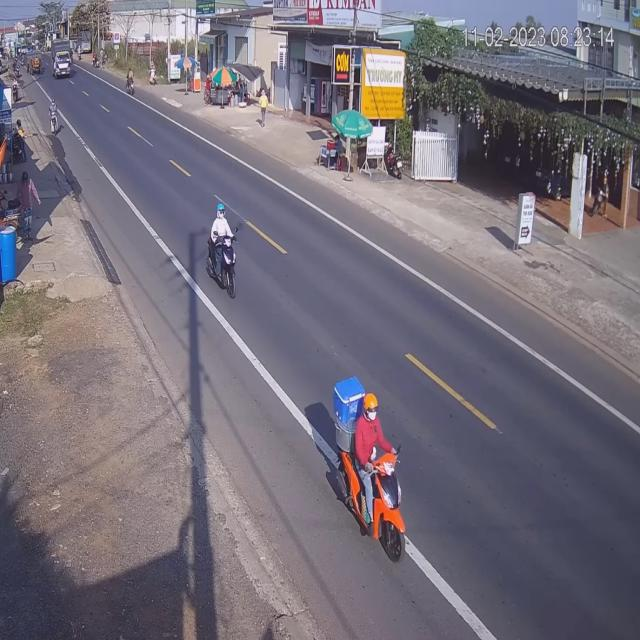motorbike: (330, 379, 404, 565), (206, 201, 240, 300), (50, 100, 59, 133), (126, 69, 134, 94)
truck: (51, 40, 72, 80)
